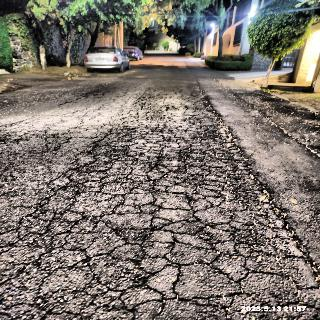alligator-crack: (137, 190, 320, 319), (54, 121, 204, 242), (0, 204, 121, 310), (134, 102, 240, 204)
